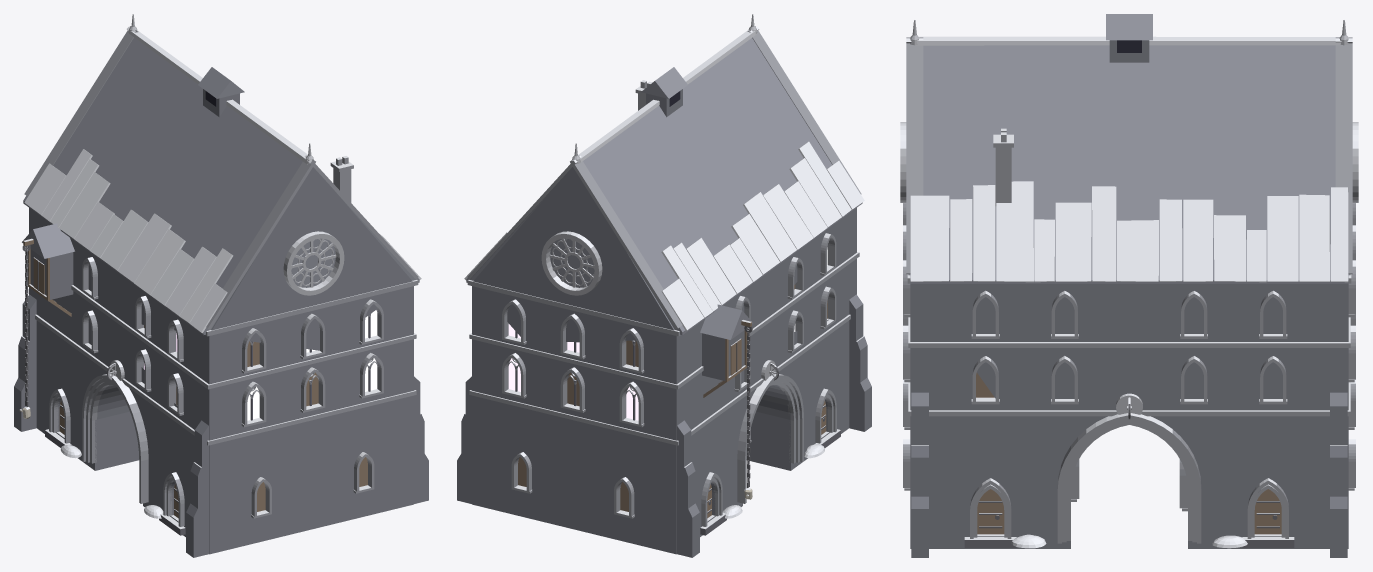
File: AR_Moinho_Grande.fbx
3 renders of one model, left to right at view 1: azimuth 30°, elevation 25°; view 2: azimuth 150°, elevation 25°; view 3: azimuth 270°, elevation 25°, orthographic. The views are drawn at different scales.
Parts seen in each view (by area): view 1: AR_Moinho_Grande; view 2: AR_Moinho_Grande; view 3: AR_Moinho_Grande.
Boxes of the visible parts, x1,y1,x2,y2 form: AR_Moinho_Grande: (14,14,428,557); AR_Moinho_Grande: (457,14,871,557); AR_Moinho_Grande: (900,14,1358,557).
Size of the model in its own units: 20.39 by 29.12 by 25.5.
